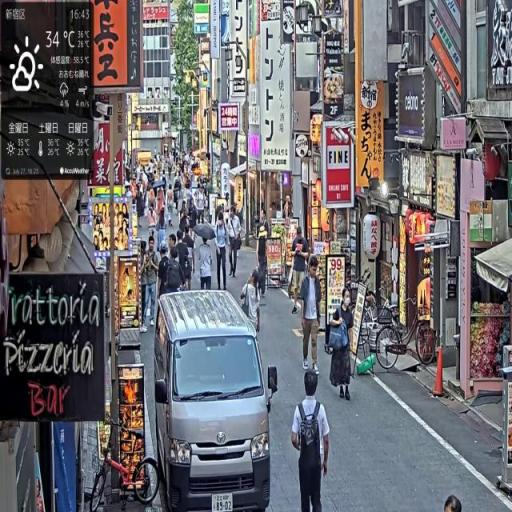person: (292, 369, 332, 512), (327, 289, 356, 403), (299, 256, 324, 376), (290, 224, 311, 321), (140, 238, 161, 334), (240, 270, 262, 335), (216, 213, 231, 292), (228, 205, 243, 281)
